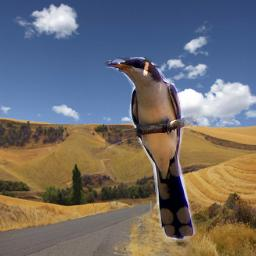Cuckoo: (105, 57, 197, 242)
